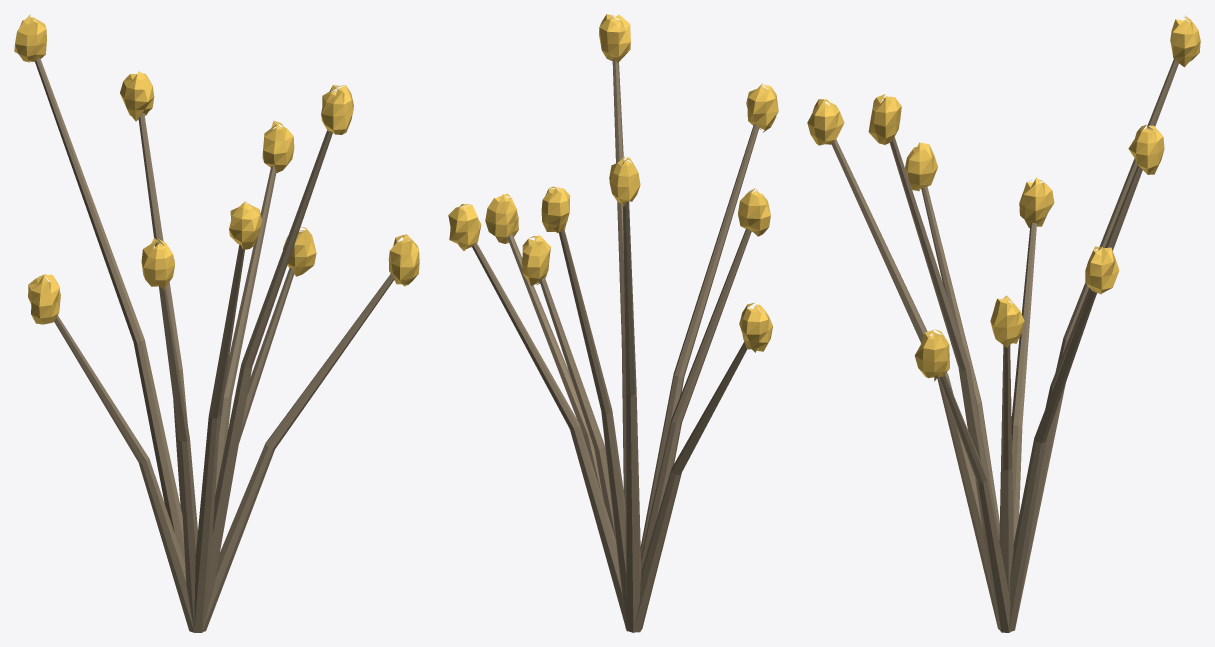
File: desert-canyons-and-oases-ocotillo-3867bfea__20999.glb
3 views of the same model, side by side, from view 1: azimuth 30°, elevation 25°; view 2: azimuth 150°, elevation 25°; view 3: azimuth 270°, elevation 25° (orthographic). The views are drawn at different scales.
Visible parts, largest first — view 1: ocotillo; view 2: ocotillo; view 3: ocotillo.
Part boxes in pixels (<box>): ocotillo: <box>14,14,419,632</box>; ocotillo: <box>448,14,778,632</box>; ocotillo: <box>807,15,1200,632</box>.
Bounding box in the file's own units: 1.5 × 2.43 × 1.5.
